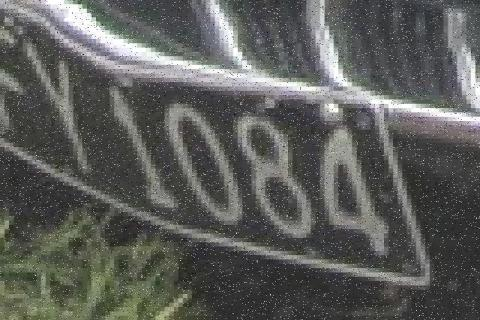LicensePlate: (0, 0, 430, 290)
